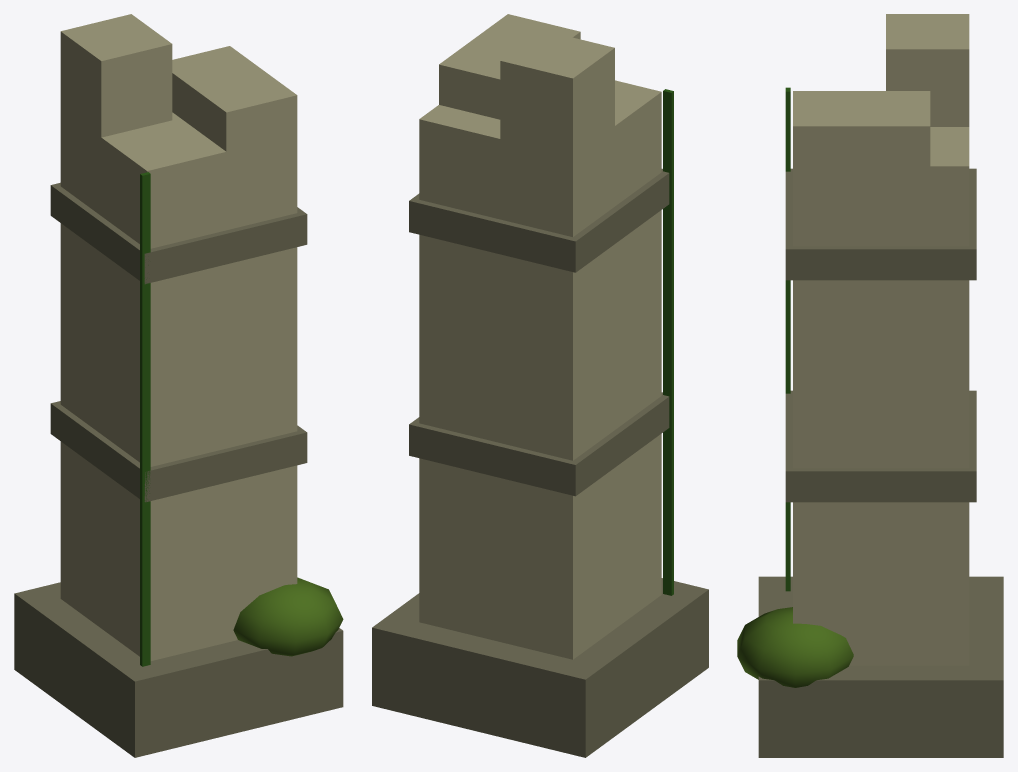
File: jt_broken_column.glb
The picture shows the model from 3 angles, left to right: view 1: azimuth 30°, elevation 25°; view 2: azimuth 150°, elevation 25°; view 3: azimuth 270°, elevation 25°; orthographic projection. The views are drawn at different scales.
Visible parts, largest first — view 1: jt_broken_column; view 2: jt_broken_column; view 3: jt_broken_column.
Boxes of the visible parts, bbox=[...] form: jt_broken_column: bbox=[14, 14, 343, 757]; jt_broken_column: bbox=[372, 14, 708, 757]; jt_broken_column: bbox=[737, 14, 1003, 757].
Size of the model in its own units: 1.05 by 2.95 by 1.09.
